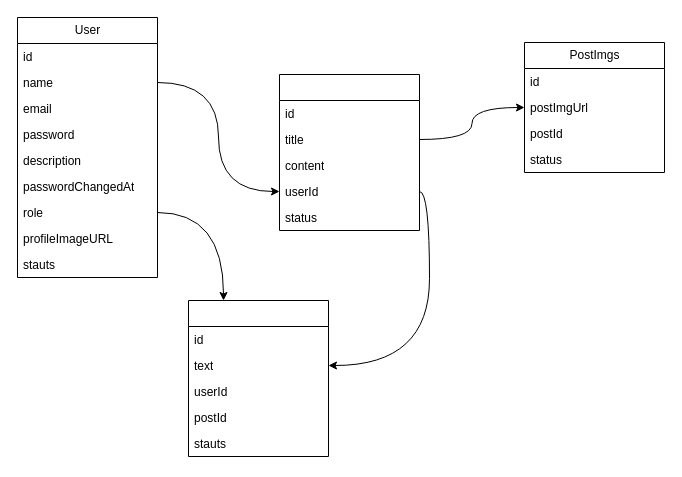
Image size: 682x477. Some labels were removed from this diagram. The shapes that lost their labels are listed below. From the top down, each one's box as (x1, y1, x2, y2) in pixels, then its label:
(278, 74, 420, 230): Posts
(188, 300, 328, 456): Comment
